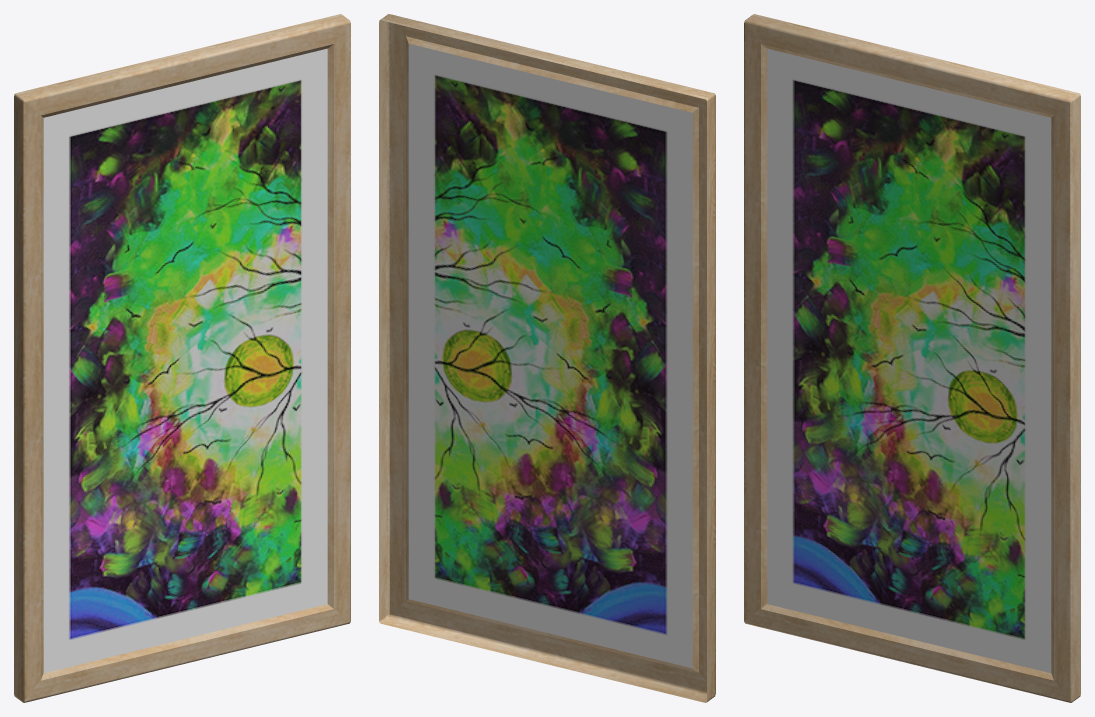
The model's file is paints2.FBX.
3 views of the same model, side by side, from view 1: azimuth 30°, elevation 25°; view 2: azimuth 150°, elevation 25°; view 3: azimuth 330°, elevation 25° (orthographic).
Parts seen in each view (by area): view 1: paints2; view 2: paints2; view 3: paints2.
Part boxes in pixels (x1,y1,x2,y2): paints2: (14, 14, 350, 702); paints2: (379, 14, 715, 702); paints2: (744, 14, 1080, 702).
Size of the model in its own units: 20.56 by 1.03 by 36.17.
